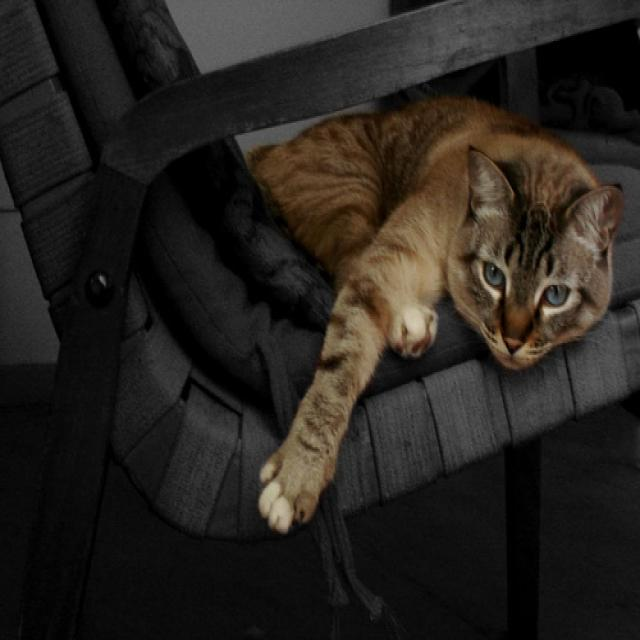left eye: (540, 280, 570, 307)
